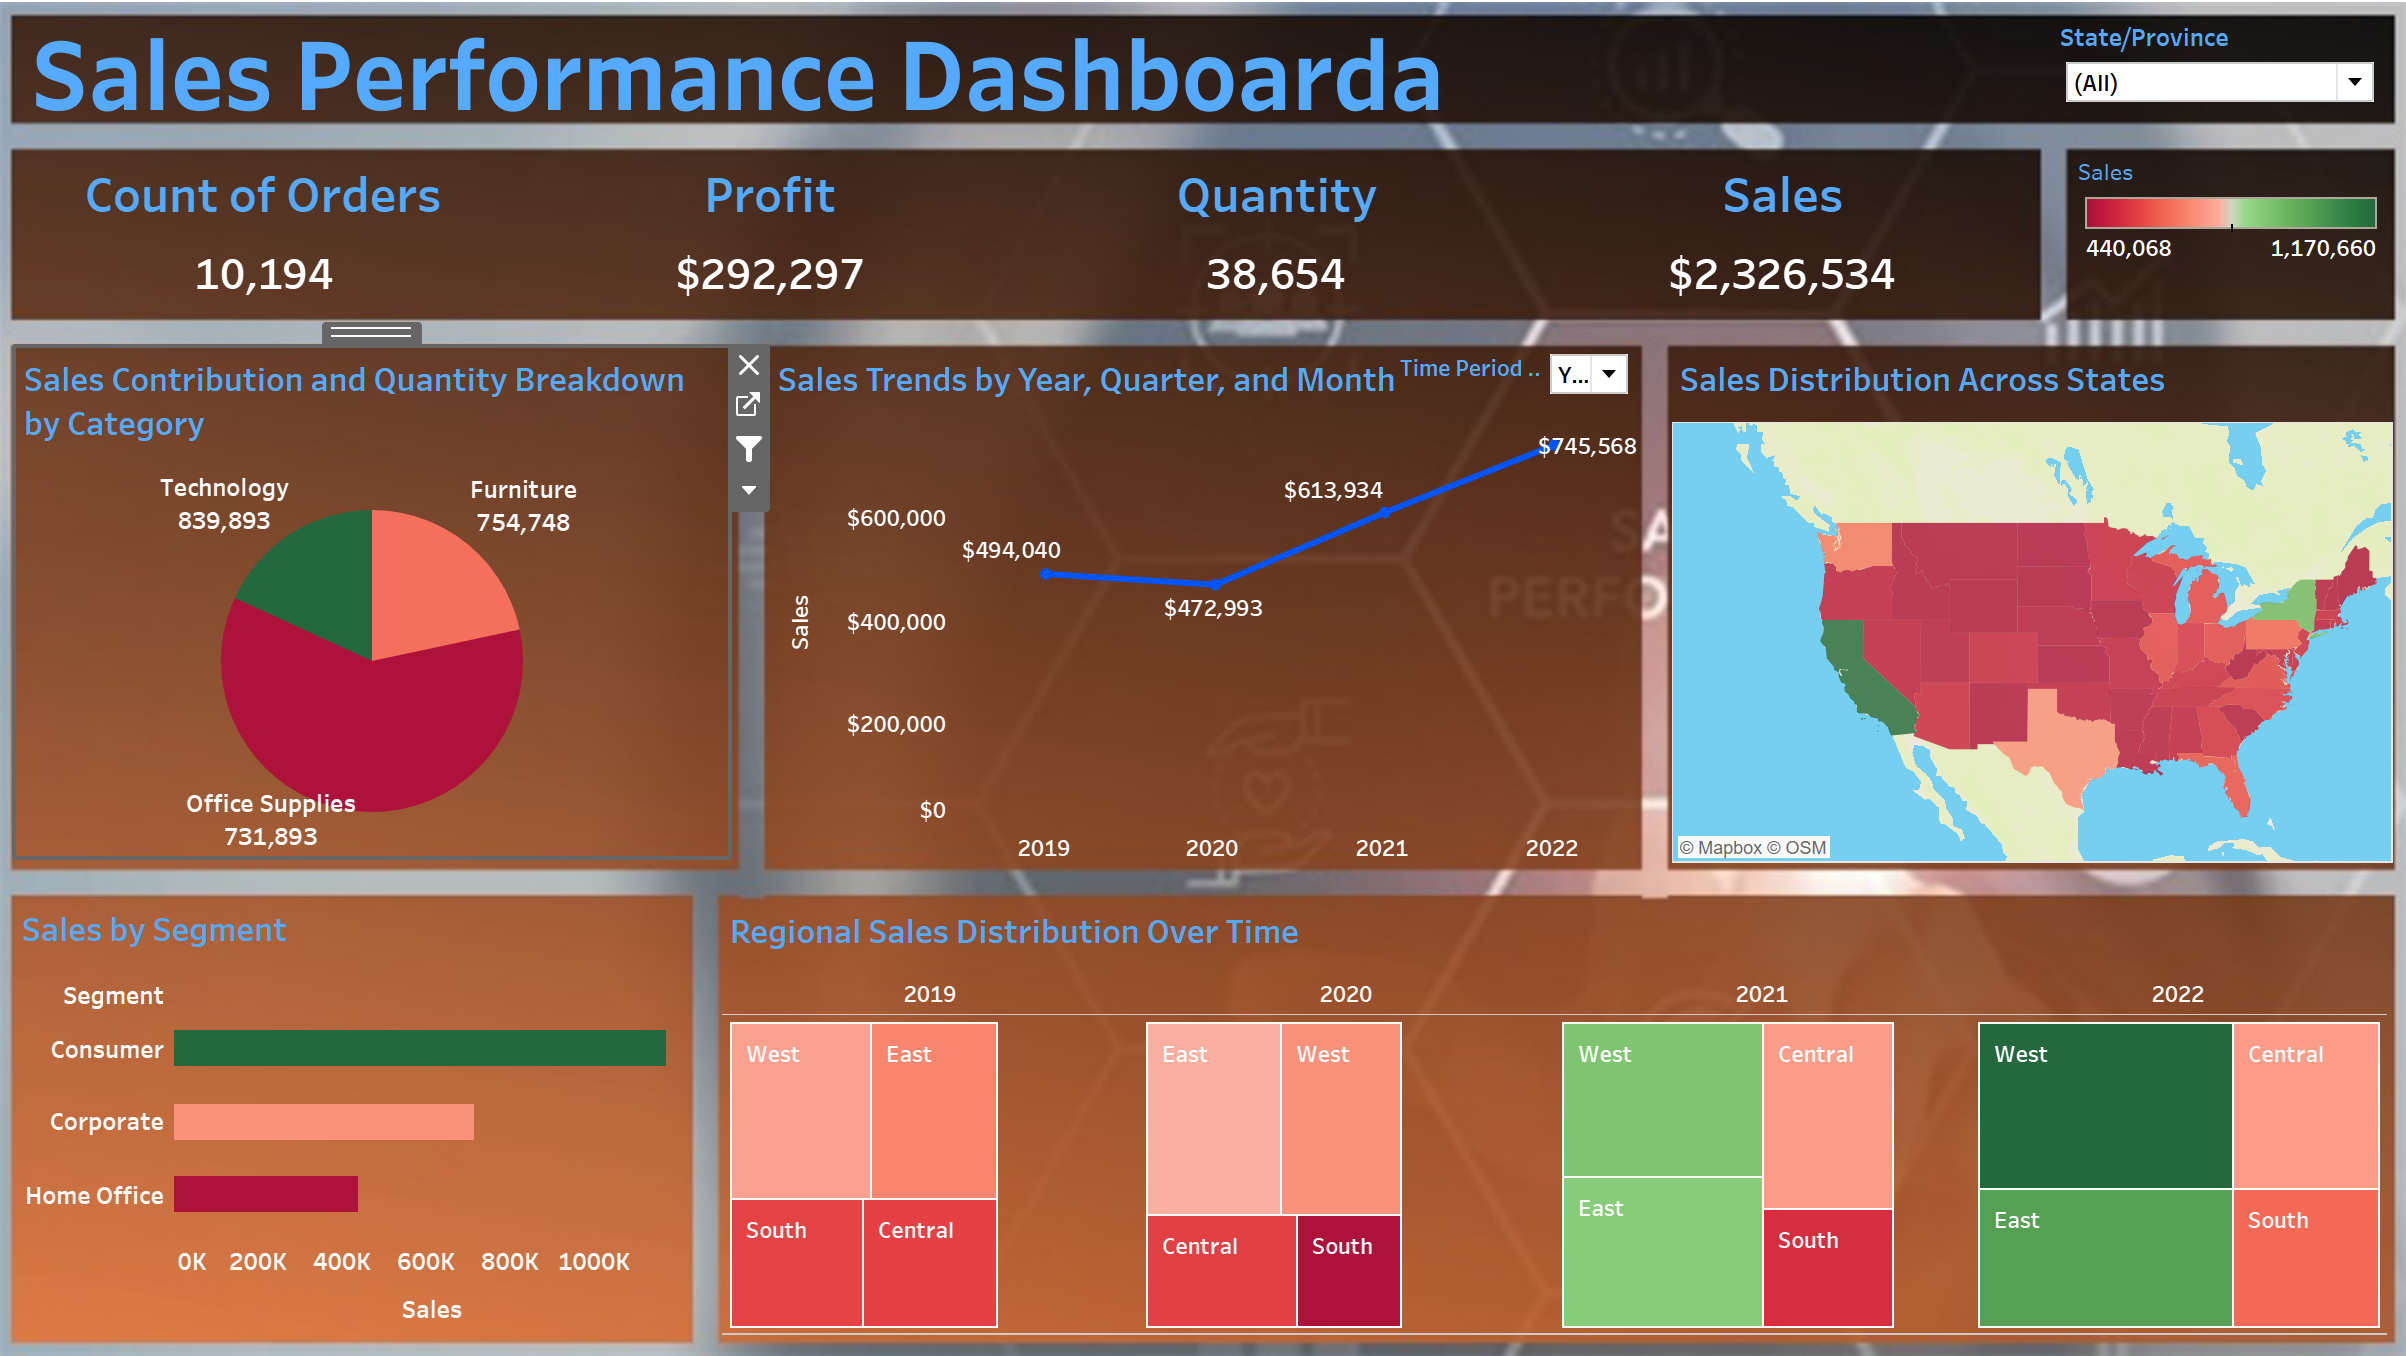

Layout of this report page (visuals, bound fields, positions):
{"tool":"tableau","page":{"name":"Sales Performance Dashboard","canvas":[1000,1000],"units":"permille","ordinal":0},"visuals":[{"type":"image","param":"Image/Sales Background.jpg","box":[6.5,11.2,987,977.7]},{"type":"filter","title":"Sales Contribution and Quantity Breakdown by Category","param":"[Sample - Superstore].[Action (State/Province)]","box":[848.7,39.1,130.2,72.6]},{"type":"text","box":[21.2,43.3,671.3,61.5]},{"type":"worksheet","title":"KPI","mark":"Automatic","box":[14.7,127.1,824.2,118.7]},{"type":"legend","title":"Sales by Segment","param":"[Sample - Superstore].[sum:Sales:qk]","box":[856,134.1,125.3,106.2]},{"type":"worksheet","title":"Sales Contribution and Quantity Breakdown by Category","mark":"Pie","box":[17.1,268.2,289.7,354.8]},{"type":"worksheet","title":"Sales Trends by Year, Quarter, and Month","mark":"Line","rows":["Sales"],"cols":["Calculation_1067071675362590721"],"box":[323.8,268.2,353.1,361.7]},{"type":"parameter","param":"[Parameters].[Parameter 3]","box":[580.1,268.2,95.2,48.9]},{"type":"worksheet","title":"Sales Distribution Across States","mark":"Multipolygon","box":[690.8,268.2,293.7,360.3]},{"type":"worksheet","title":"Sales by Segment","mark":"Automatic","rows":["Segment"],"cols":["Sales"],"box":[16.3,652.2,275,308.7]},{"type":"worksheet","title":"Regional Sales Distribution Over Time","mark":"Automatic","cols":["Order Date"],"box":[304.3,653.6,677.8,304.5]}]}

Visuals, with their boxes on the dashboard's canvas, which has no fixed pixel size, in thousandths of its width and height (x1, y1, x2, y2). These are canvas units, not pixel positions in the 2406x1356 screenshot, which may show the page scaled, cropped or inside an application window:
image: 6 11 994 989
"Sales Contribution and Quantity Breakdown by Category" filter: 849 39 979 112
text: 21 43 692 105
"KPI" worksheet: 15 127 839 246
"Sales by Segment" legend: 856 134 981 240
"Sales Contribution and Quantity Breakdown by Category" worksheet (Pie marks): 17 268 307 623
"Sales Trends by Year, Quarter, and Month" worksheet (Line marks): 324 268 677 630
parameter: 580 268 675 317
"Sales Distribution Across States" worksheet (Multipolygon marks): 691 268 984 628
"Sales by Segment" worksheet: 16 652 291 961
"Regional Sales Distribution Over Time" worksheet: 304 654 982 958
